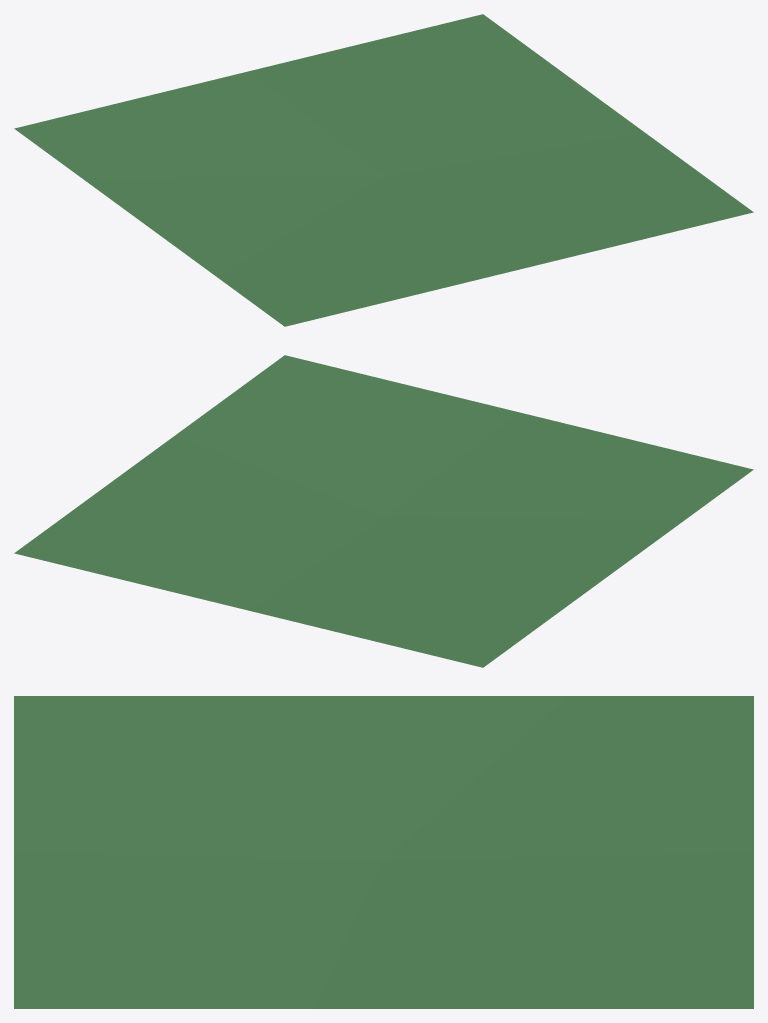
The model's file is Grass_Mid.fbx.
3 renders of one model, top to bottom at view 1: azimuth 30°, elevation 25°; view 2: azimuth 150°, elevation 25°; view 3: azimuth 270°, elevation 25°, orthographic. The views are drawn at different scales.
Parts seen in each view (by area): view 1: Grass_Mid; view 2: Grass_Mid; view 3: Grass_Mid.
Part boxes in pixels (box(x1,y1,x2,y2)): Grass_Mid: box(14, 14, 753, 326); Grass_Mid: box(14, 355, 753, 667); Grass_Mid: box(14, 696, 753, 1008).
Bounding box in the file's own units: 100 × 1.15 × 100.
